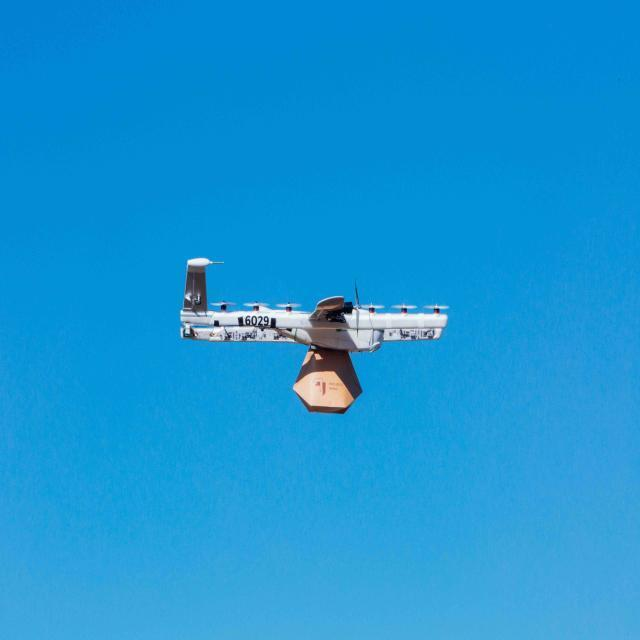iha: (167, 234, 453, 418)
